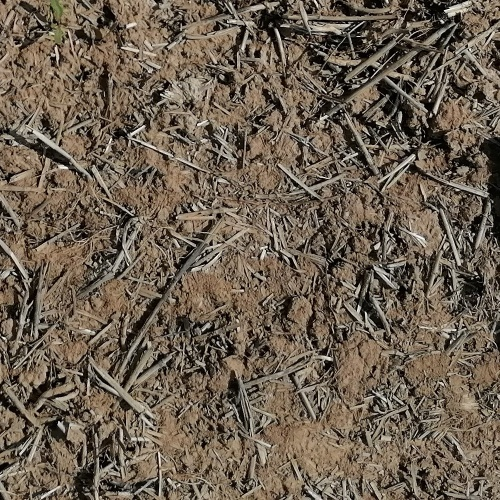beet: (48, 0, 68, 44)
